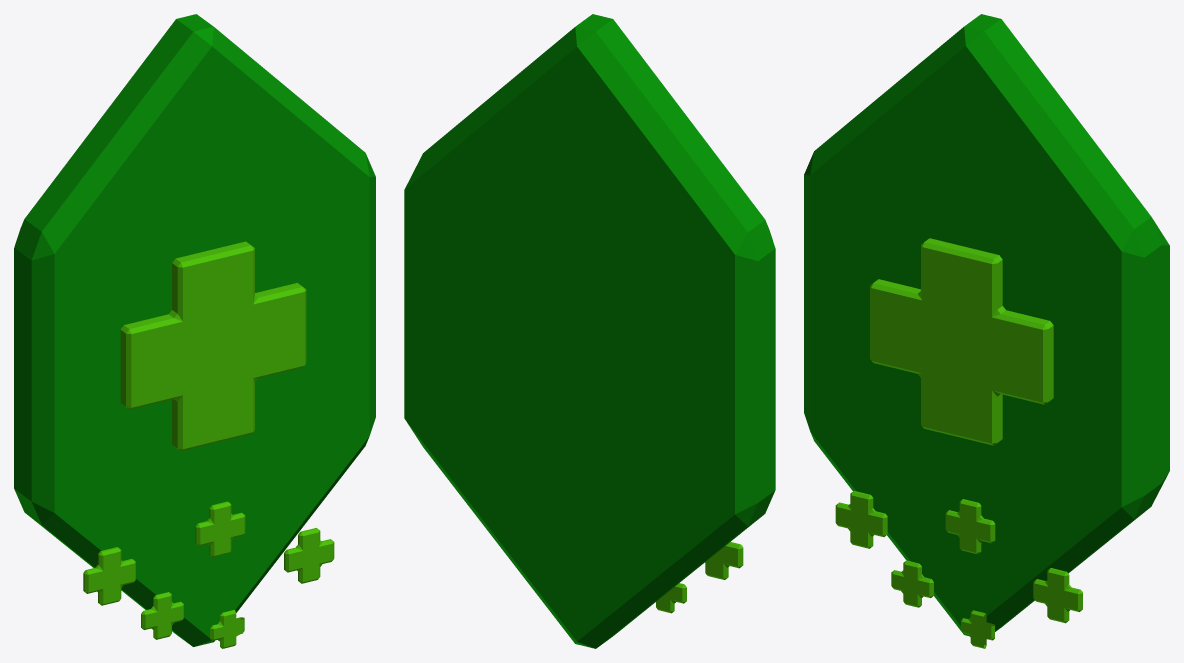
File: health_powerup.fbx
3 views of the same model, side by side, from view 1: azimuth 30°, elevation 25°; view 2: azimuth 150°, elevation 25°; view 3: azimuth 330°, elevation 25° (orthographic).
Parts seen in each view (by area): view 1: Plane, Cube, Cube.001; view 2: Plane, Cube.001; view 3: Plane, Cube, Cube.001.
Part boxes in pixels (bbox=[...]): Plane: bbox=[14, 14, 375, 646]; Cube: bbox=[120, 241, 306, 451]; Cube.001: bbox=[83, 501, 334, 648]; Plane: bbox=[404, 14, 775, 648]; Cube.001: bbox=[656, 541, 743, 613]; Plane: bbox=[804, 14, 1169, 635]; Cube: bbox=[870, 238, 1053, 445]; Cube.001: bbox=[835, 491, 1082, 648].
Bounding box in the file's own units: 4 × 6.83 × 0.8392.
